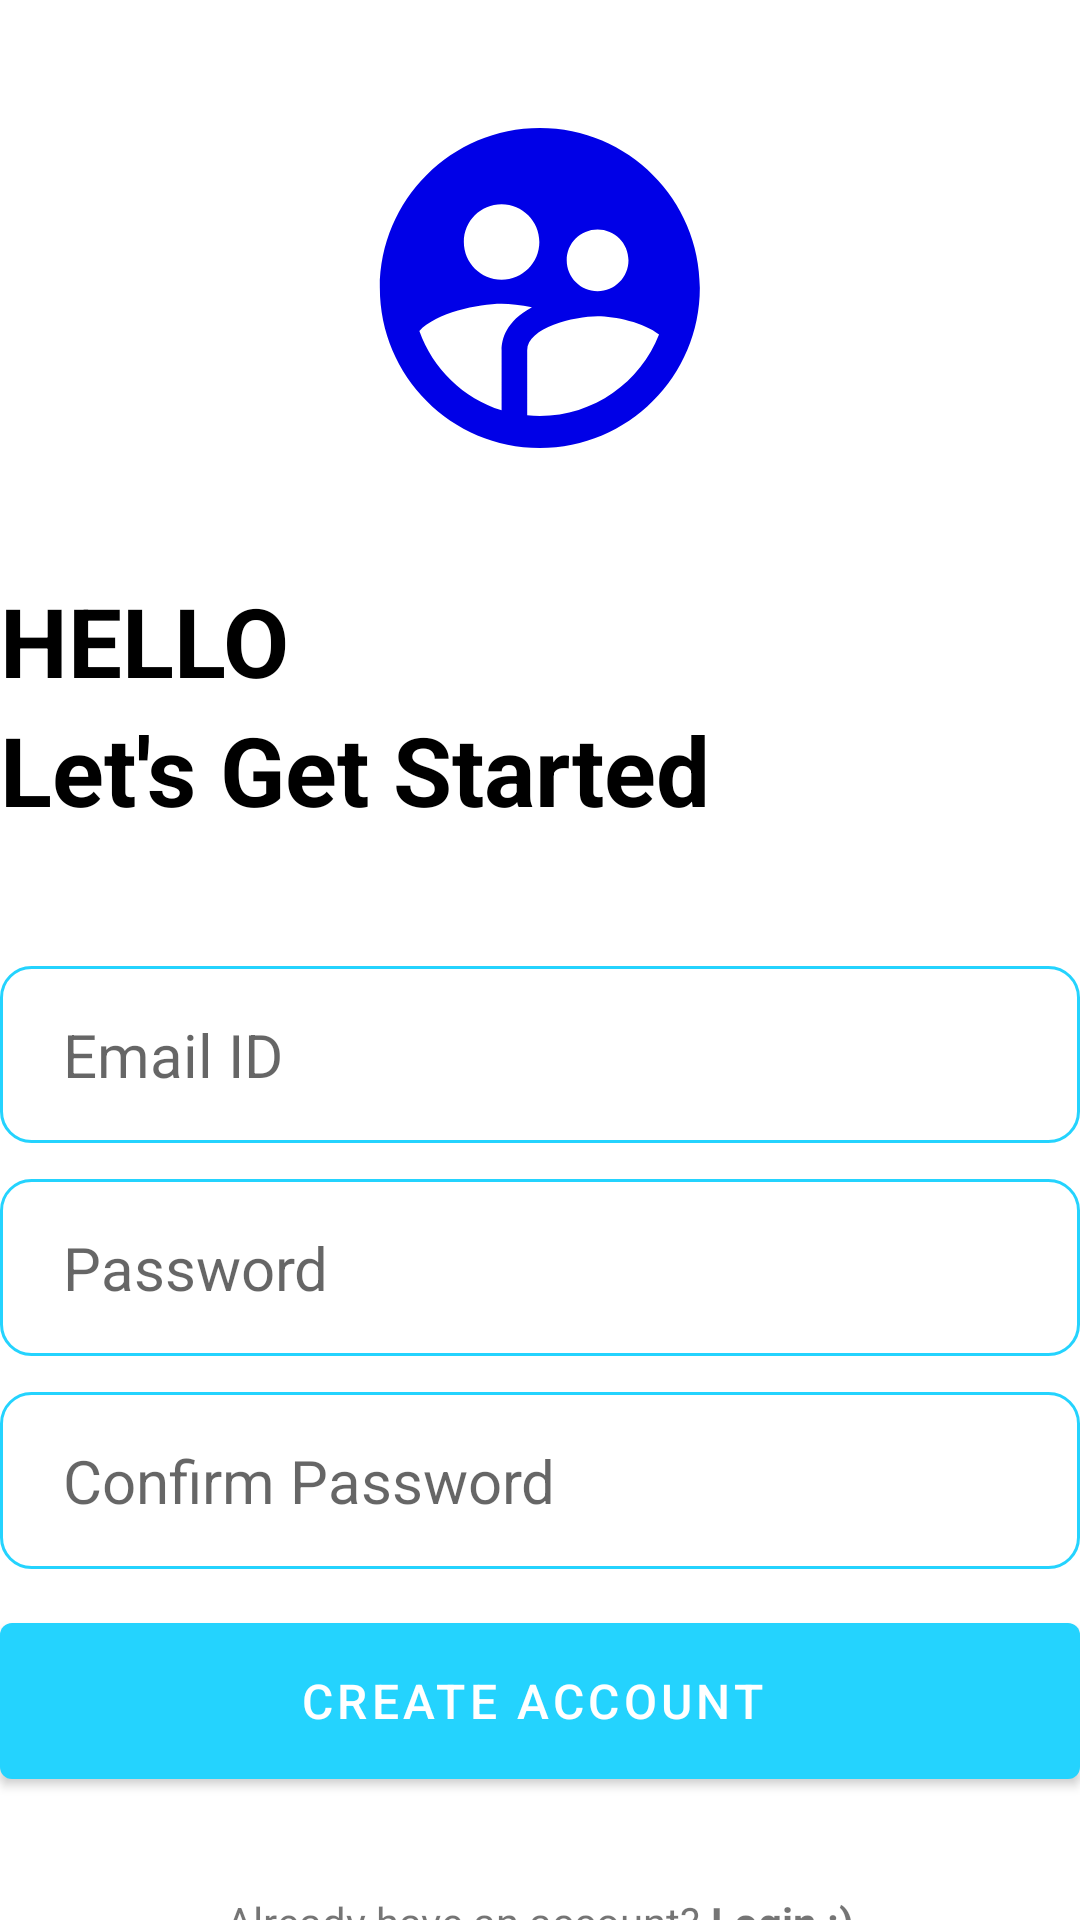

Named icons in this screenshot (1080*1920) and their bounding boxes, (x1, y1, x2, y2):
supervised user circle: (379, 128, 700, 448)
